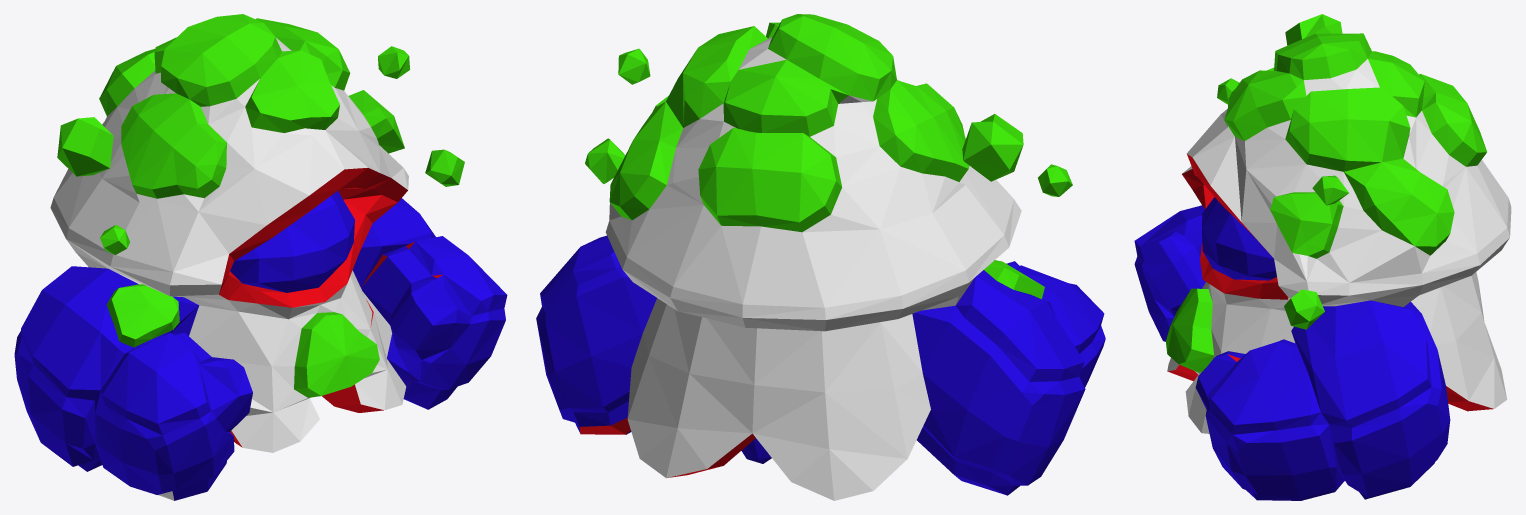
The model's file is kg_rockc.glb.
3 renders of one model, left to right at view 1: azimuth 30°, elevation 25°; view 2: azimuth 150°, elevation 25°; view 3: azimuth 270°, elevation 25°, orthographic. The views are drawn at different scales.
Parts seen in each view (by area): view 1: face, cloth, deco, red; view 2: cloth, deco, face, red; view 3: face, cloth, deco, red.
Boxes of the visible parts, x1,y1,x2,y2 form: face: (14, 191, 507, 500); cloth: (50, 37, 408, 500); deco: (57, 14, 464, 397); red: (219, 168, 442, 447); cloth: (605, 37, 1021, 500); deco: (585, 14, 1072, 299); face: (536, 235, 1105, 495); red: (579, 417, 755, 477); face: (1134, 197, 1450, 500); cloth: (1167, 59, 1511, 433); deco: (1166, 14, 1486, 372); red: (1167, 154, 1493, 411).
Size of the model in its own units: 0.1704 by 0.1465 by 0.1294.
